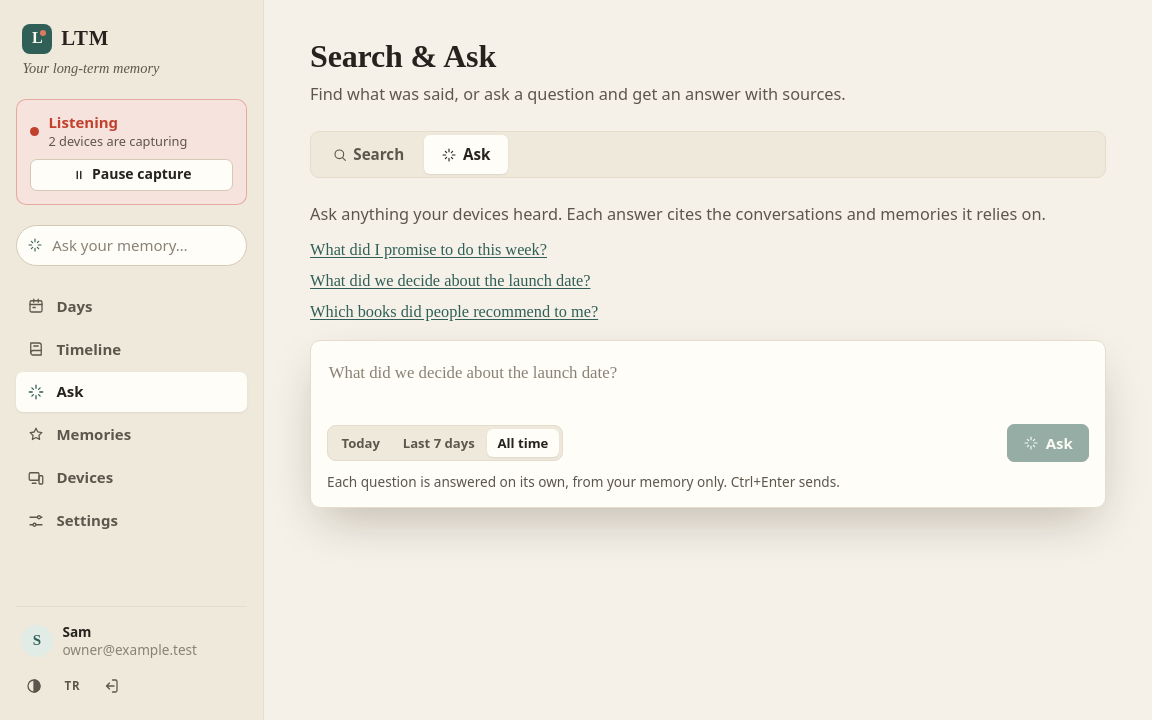
Scenario: ask thread › points to provider settings when no language model is configured
This screenshot has width=1152, height=720.
Type "Anything?" into the text box named "Your question". click: (708, 385)
box: [327,356,1089,414]
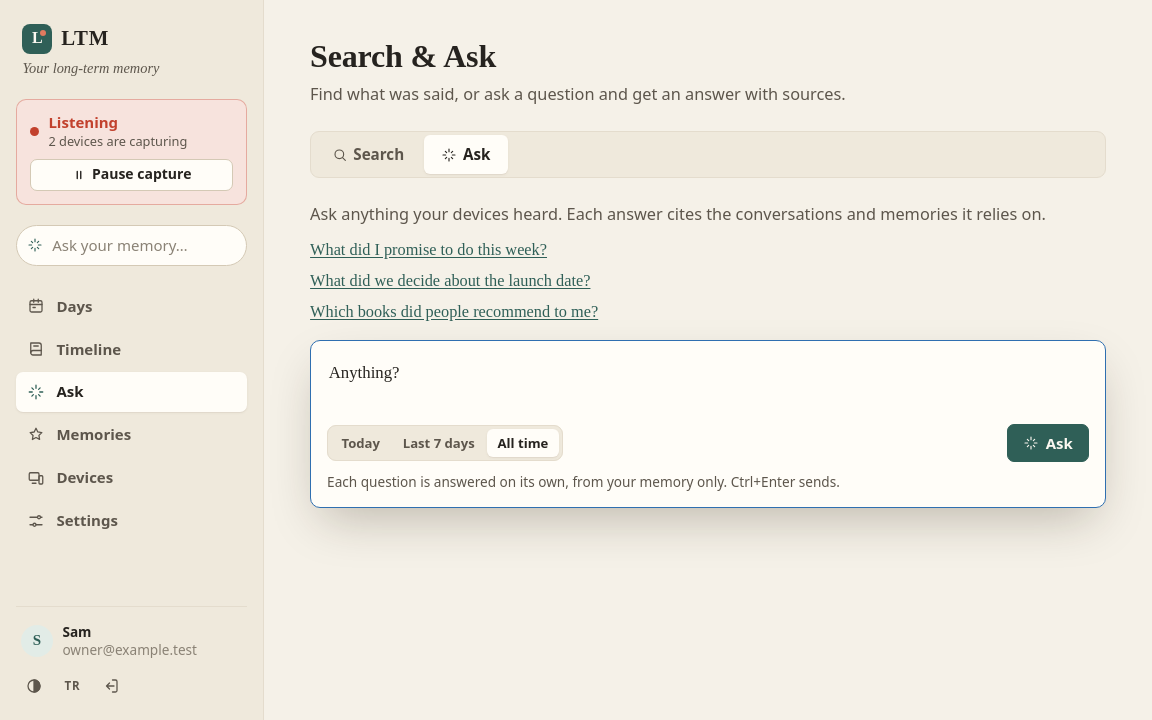
Click the button "Ask". click: (1048, 443)
box: [1007,424,1089,462]
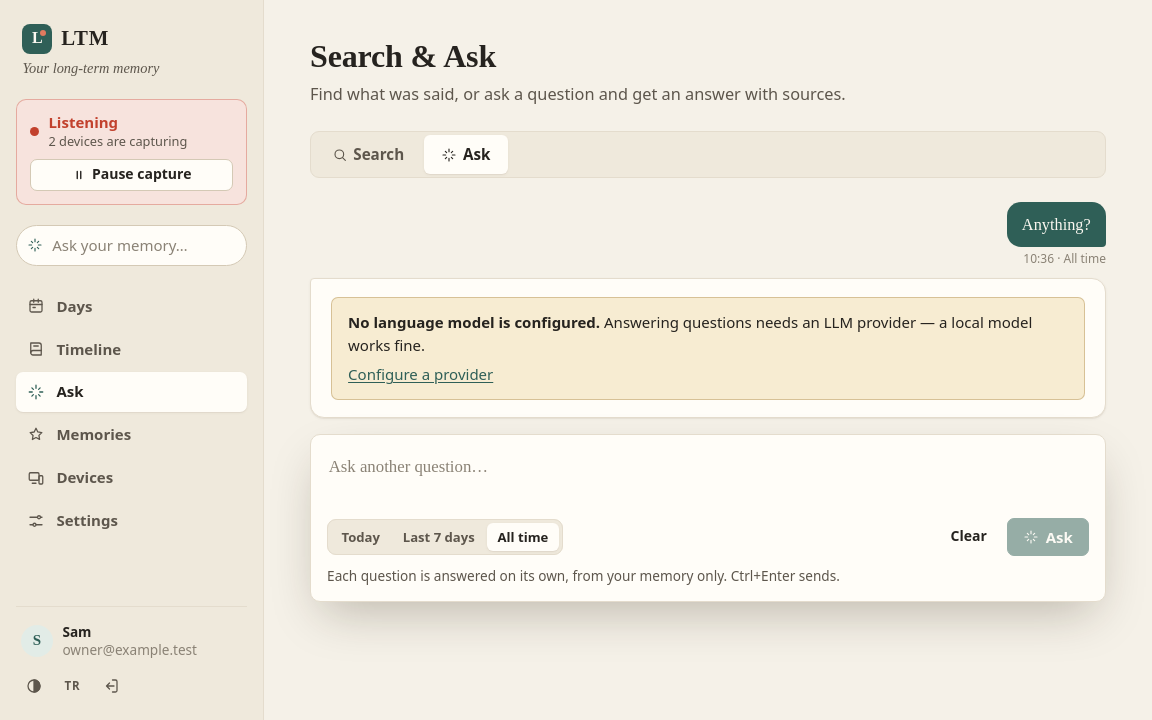
Result: the text "No language model is configured." is shown at [348,312,600,332]
